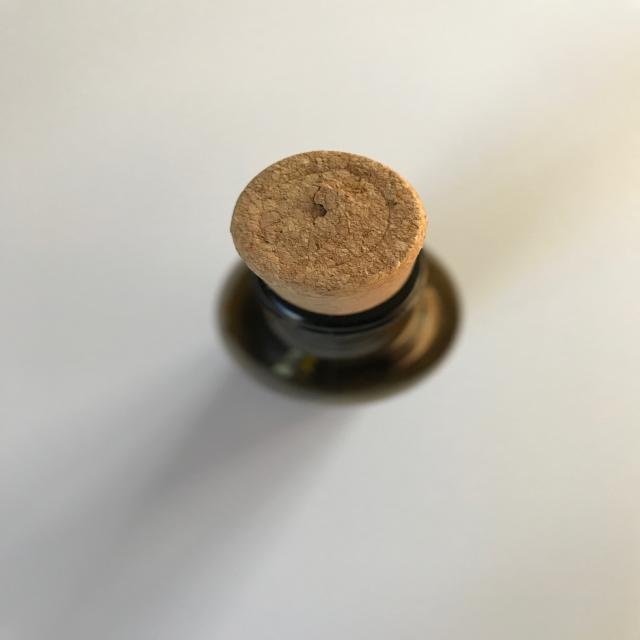glass: (212, 148, 464, 406)
